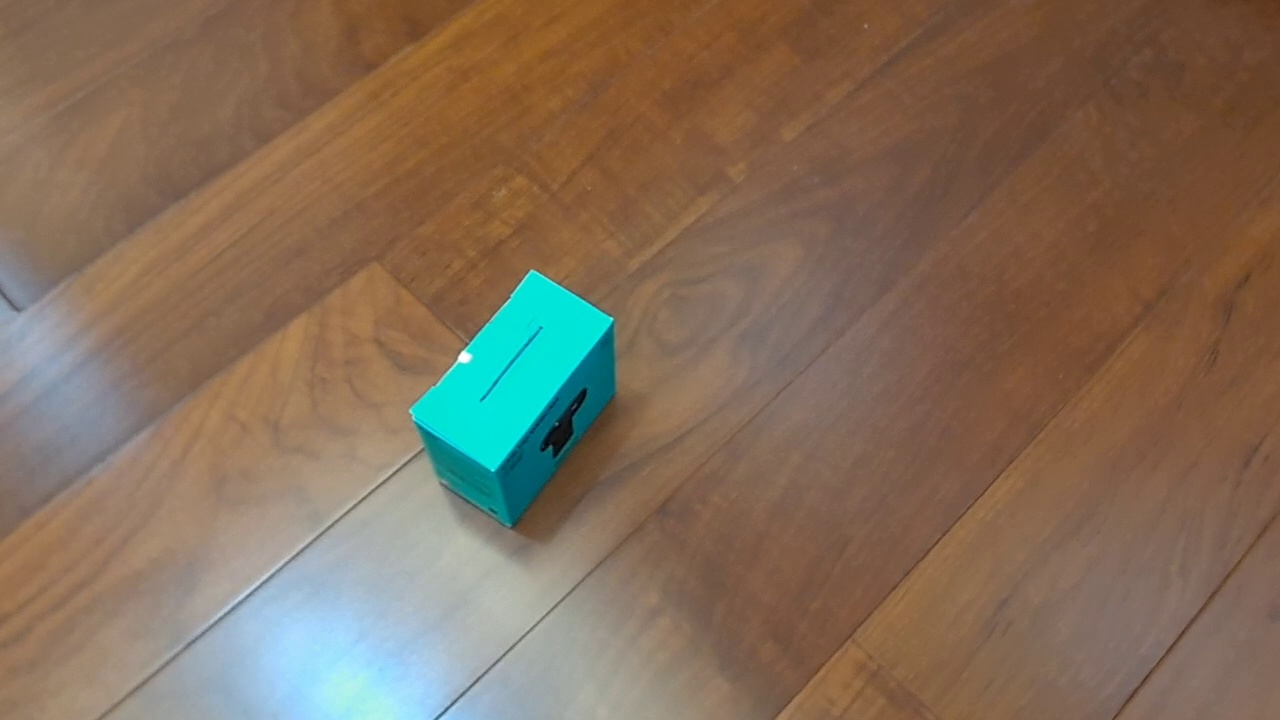webcam: (407, 268, 618, 530)
